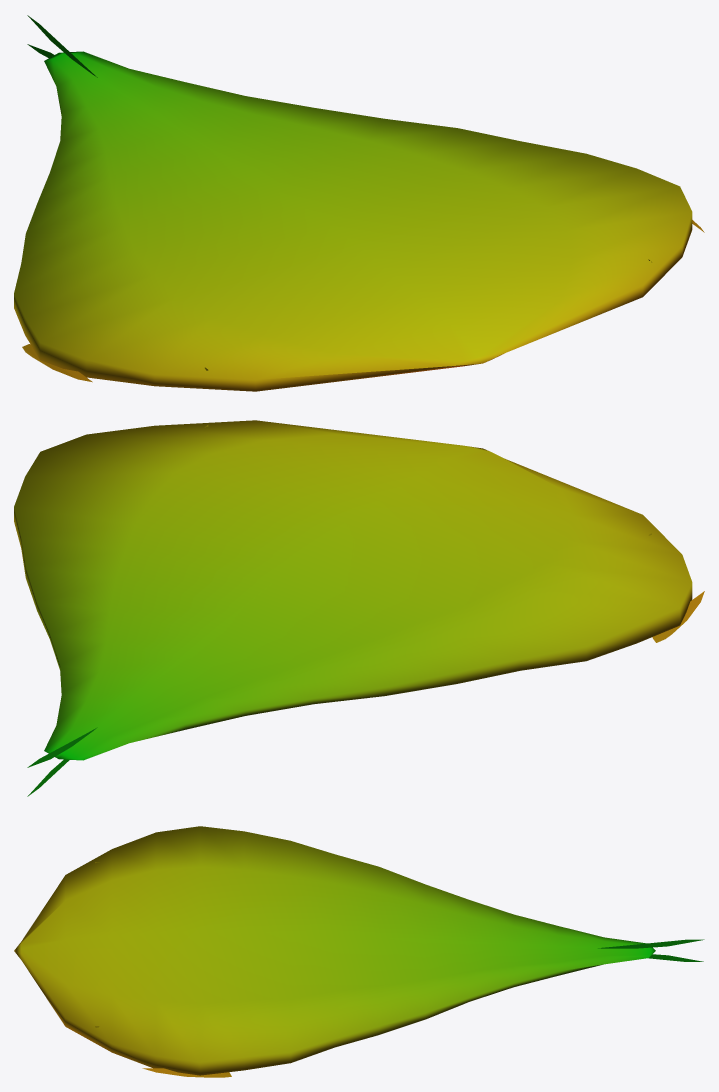
The model's file is stingray.glb.
3 renders of one model, top to bottom at view 1: azimuth 30°, elevation 25°; view 2: azimuth 150°, elevation 25°; view 3: azimuth 270°, elevation 25°, orthographic. The views are drawn at different scales.
Visible parts, largest first — view 1: body; view 2: body; view 3: body.
Part boxes in pixels (bbox=[...]): body: bbox=[14, 15, 704, 391]; body: bbox=[14, 420, 704, 796]; body: bbox=[14, 826, 704, 1077].
Size of the model in its own units: 0.8906 by 0.0742 by 1.1.
